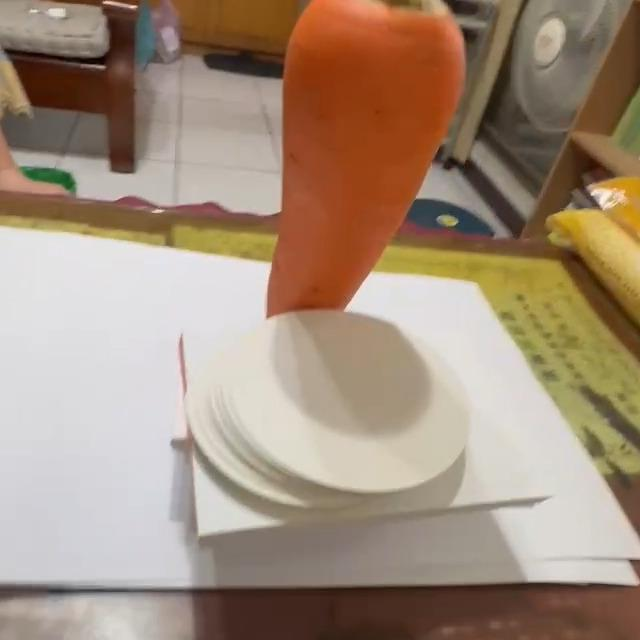carrot: (264, 1, 470, 324)
